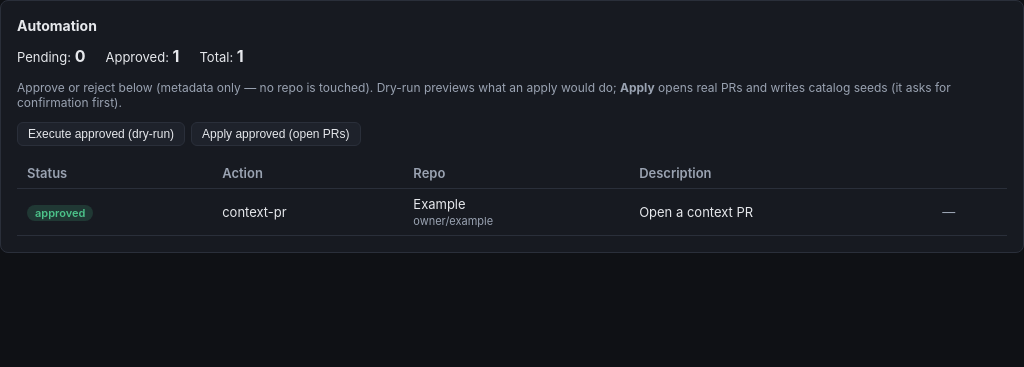
Test: Automation — execute poll loop › polls the executor status and refetches the queue on completion
Click the button "Execute approved (dry-run)" at (101, 134), box [17,122,185,146]
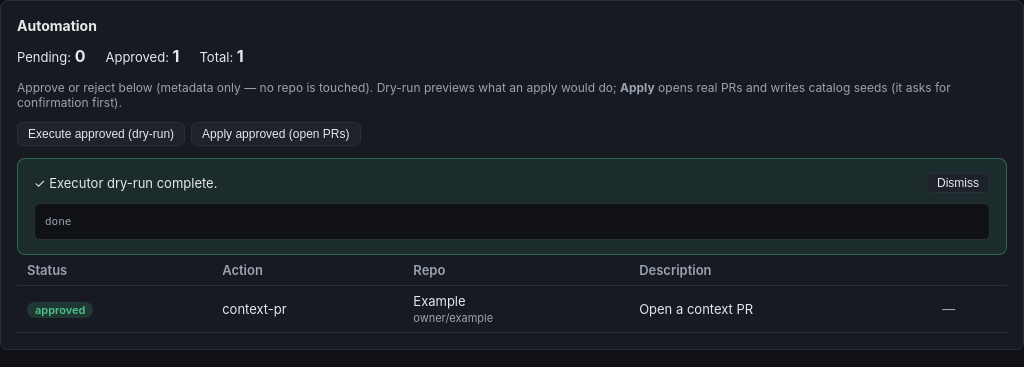
Result: the text "✓ Executor dry-run complete." is shown at [34,175,218,191]
